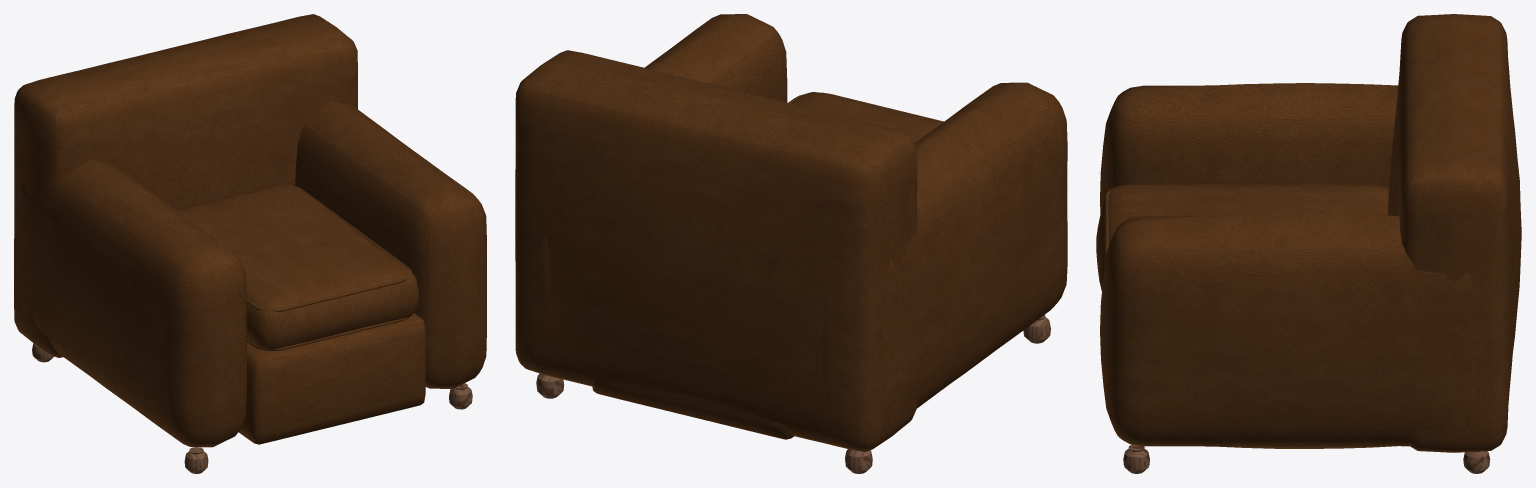
The model's file is butaca_club_marron.glb.
3 renders of one model, left to right at view 1: azimuth 30°, elevation 25°; view 2: azimuth 150°, elevation 25°; view 3: azimuth 270°, elevation 25°, orthographic. The views are drawn at different scales.
Visible parts, largest first — view 1: butaca_club_marron; view 2: butaca_club_marron; view 3: butaca_club_marron.
Boxes of the visible parts, x1,y1,x2,y2 form: butaca_club_marron: (14,14,486,473); butaca_club_marron: (515,14,1067,473); butaca_club_marron: (1096,14,1521,473).
Bounding box in the file's own units: 0.9289 × 0.7705 × 0.9509.
Materials: 2 (2 with a texture image).
